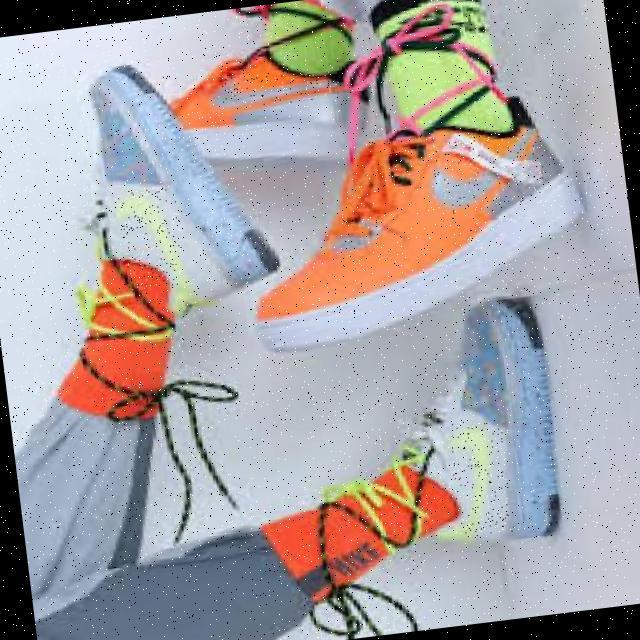Nike: (428, 125, 548, 215), (447, 417, 515, 539), (116, 185, 187, 291), (209, 65, 340, 112)
